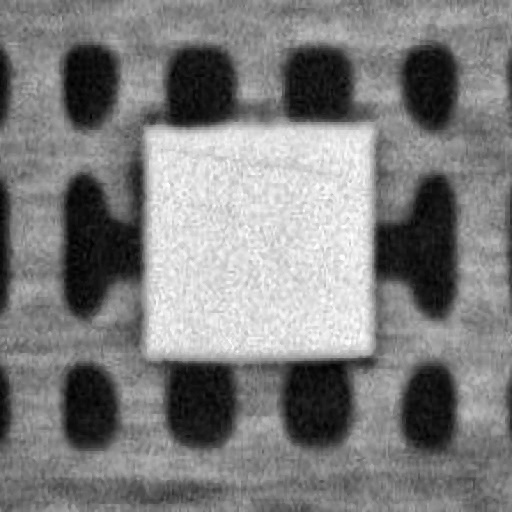DIE_CRACK: (223, 96, 509, 115)
